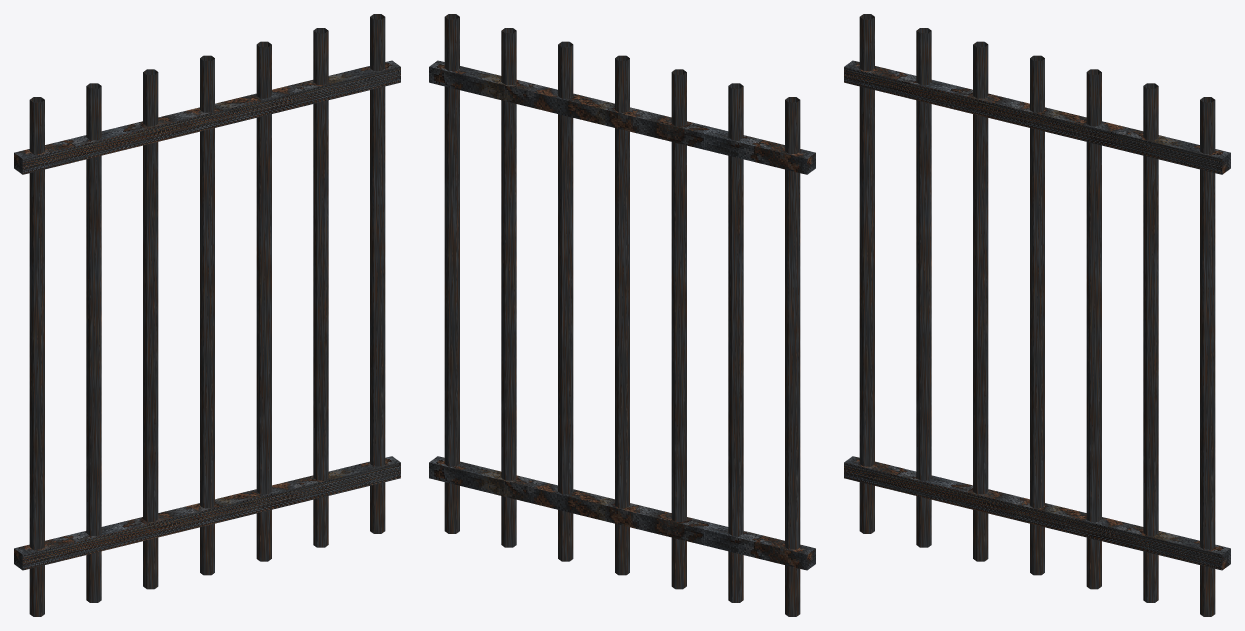
Rendered from M_Grade.obj.
3 renders of one model, left to right at view 1: azimuth 30°, elevation 25°; view 2: azimuth 150°, elevation 25°; view 3: azimuth 330°, elevation 25°, orthographic.
Parts seen in each view (by area): view 1: M_Grade; view 2: M_Grade; view 3: M_Grade.
Boxes of the visible parts, x1,y1,x2,y2 form: M_Grade: [14, 14, 400, 616]; M_Grade: [429, 14, 815, 616]; M_Grade: [844, 14, 1230, 616].
Bounding box in the file's own units: 2 × 2.6 × 0.08.
1 material, 1 textured.
